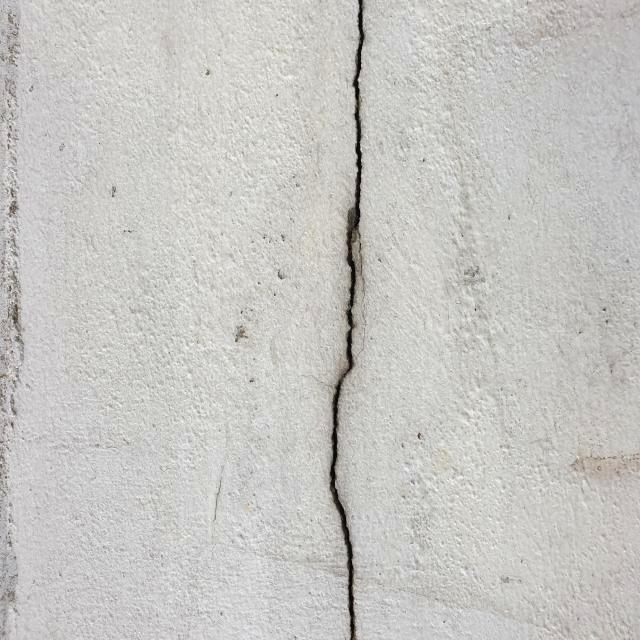SurfaceCrack: (280, 0, 414, 639), (0, 0, 67, 639)
